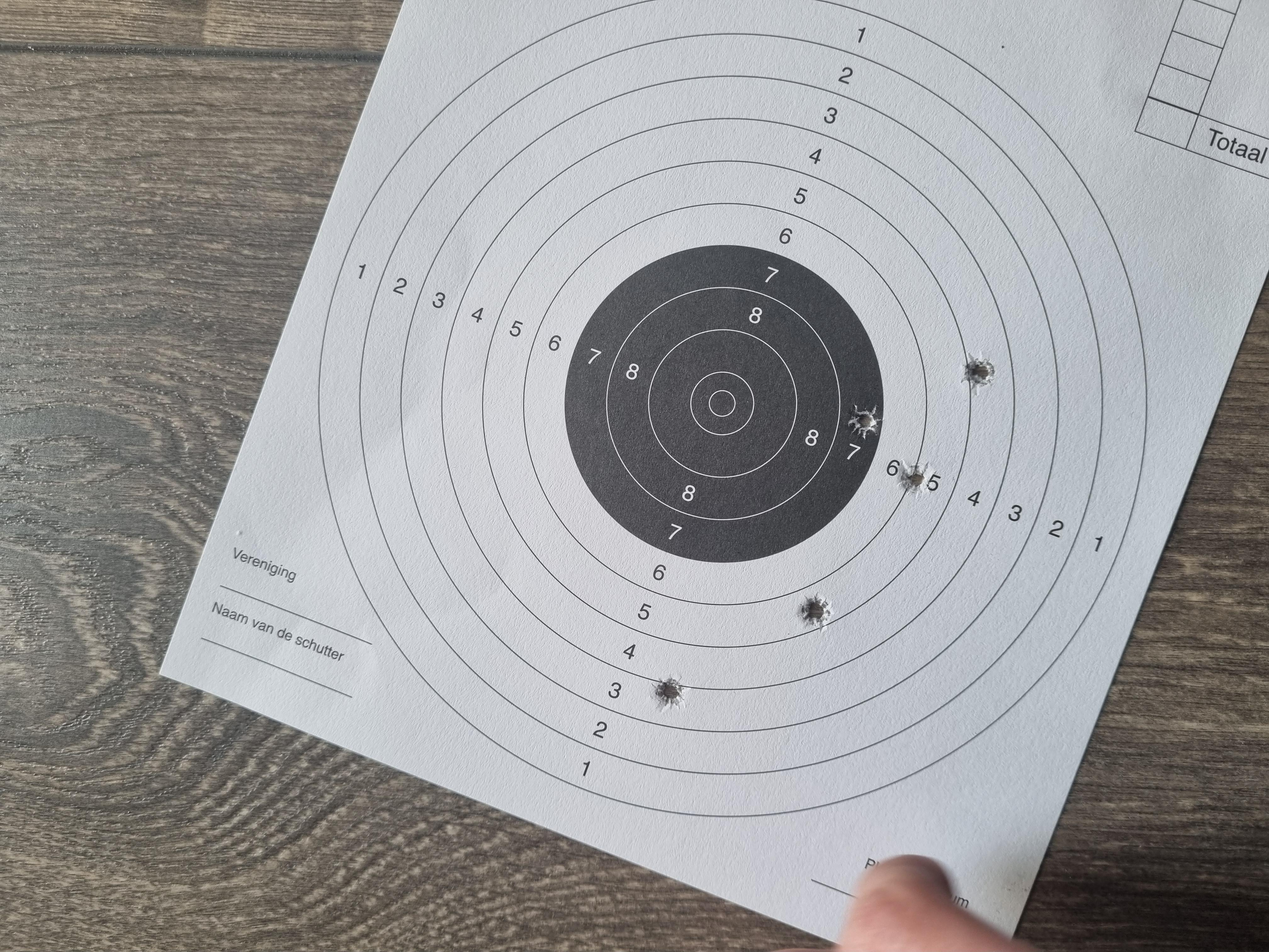hole: (747, 721, 797, 747), (610, 671, 657, 698), (426, 599, 478, 623), (683, 638, 728, 662), (326, 492, 367, 515)
